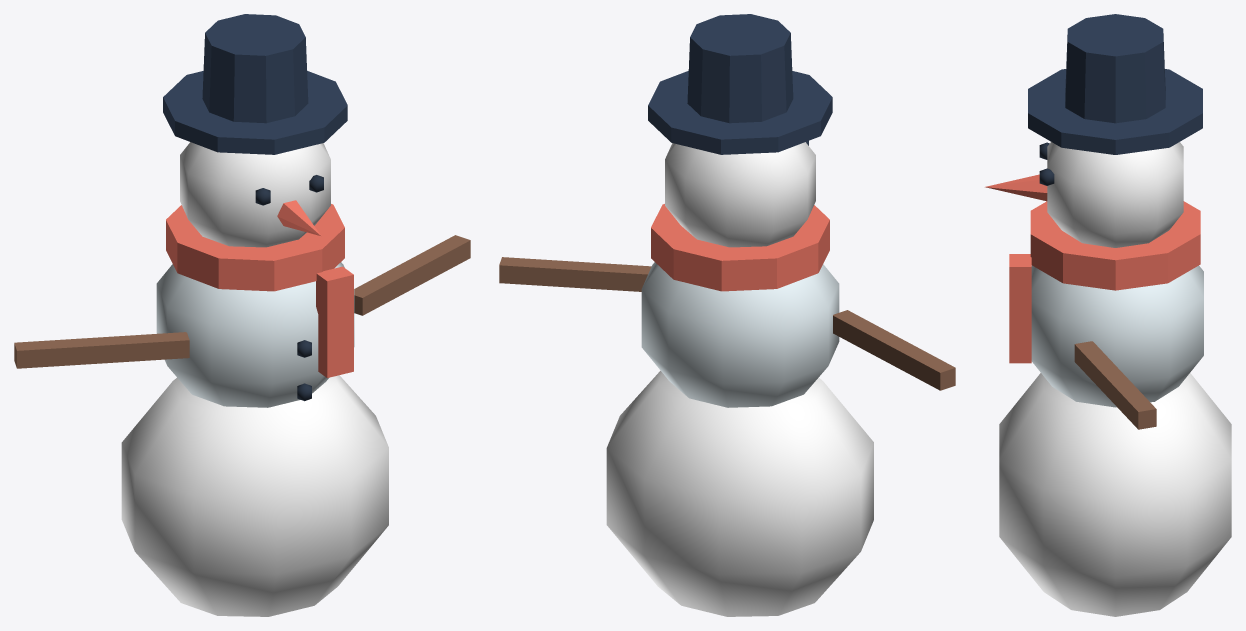
File: snowman.glb
The picture shows the model from 3 angles, left to right: view 1: azimuth 30°, elevation 25°; view 2: azimuth 150°, elevation 25°; view 3: azimuth 270°, elevation 25°; orthographic projection.
Visible parts, largest first — view 1: Prop_snowman; view 2: Prop_snowman; view 3: Prop_snowman.
Boxes of the visible parts, left/top/right/bottom form: Prop_snowman: left=14, top=14, right=470, bottom=616; Prop_snowman: left=499, top=14, right=955, bottom=616; Prop_snowman: left=985, top=14, right=1231, bottom=616.
Bounding box in the file's own units: 1.86 × 2.25 × 0.8861.
